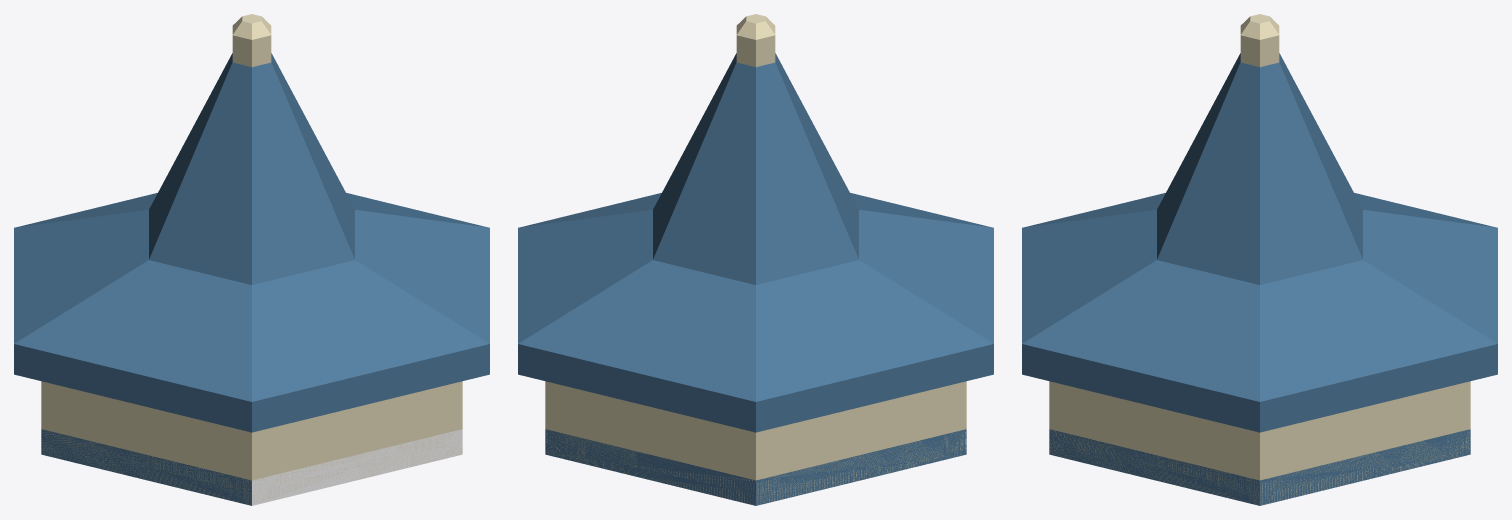
The model's file is towerHexagonRoofDetailed_exclusive.obj.
3 renders of one model, left to right at view 1: azimuth 30°, elevation 25°; view 2: azimuth 150°, elevation 25°; view 3: azimuth 270°, elevation 25°, orthographic.
Visible parts, largest first — view 1: towerHexagonRoofDetailed_exclusive; view 2: towerHexagonRoofDetailed_exclusive; view 3: towerHexagonRoofDetailed_exclusive.
Part boxes in pixels (<box>): towerHexagonRoofDetailed_exclusive: <box>14,14,489,505</box>; towerHexagonRoofDetailed_exclusive: <box>518,14,993,505</box>; towerHexagonRoofDetailed_exclusive: <box>1022,14,1497,505</box>.
Size of the model in its own units: 9.76 by 7.54 by 8.46.
